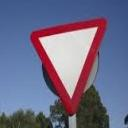preferencia: (28, 16, 109, 113)
